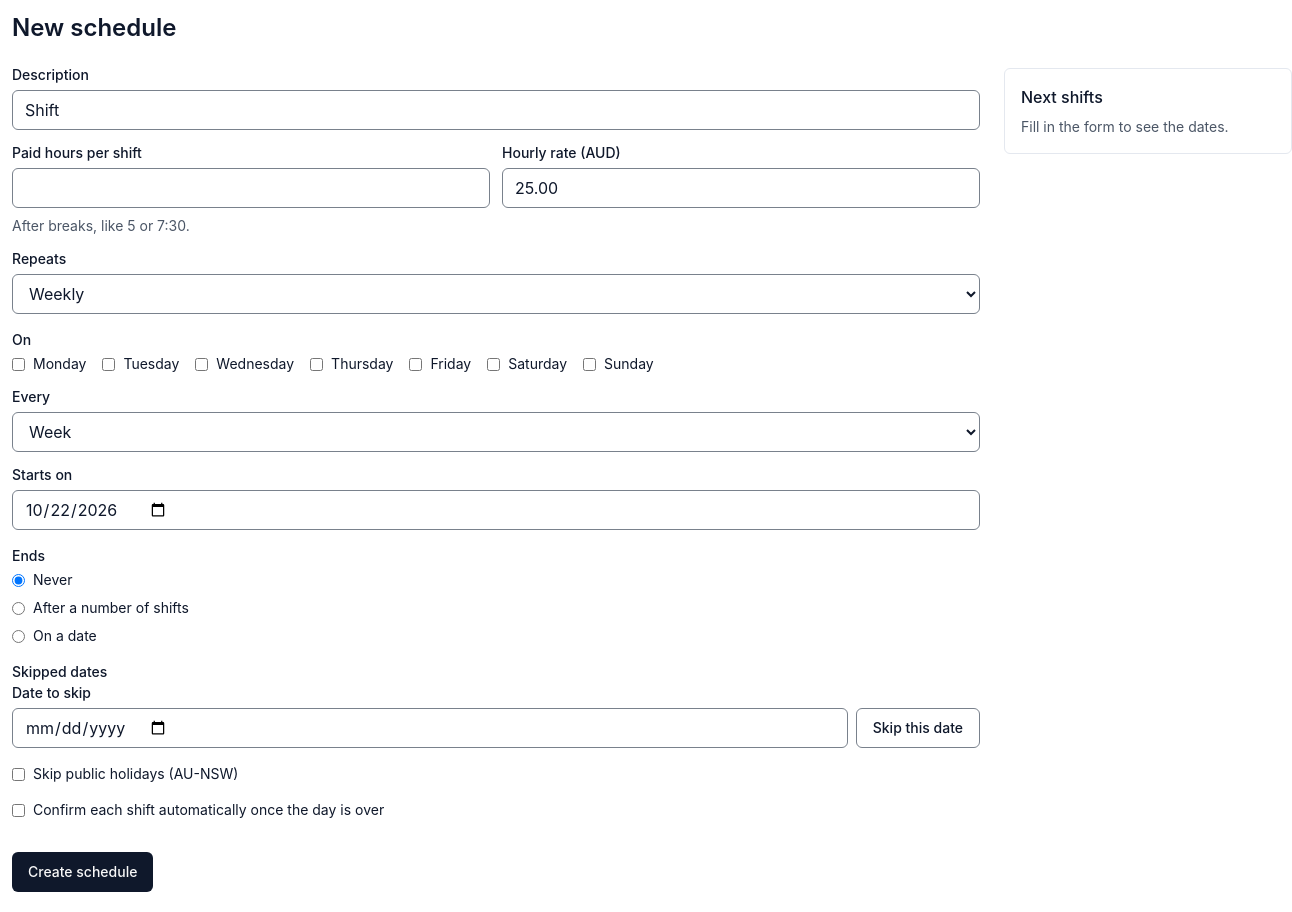
Scenario: NewSchedulePage › shows a refusal from the scheduler in the form
The image size is (1292, 912).
Click the checkbox labelled "Thursday" at (317, 364), box [310, 358, 323, 370]
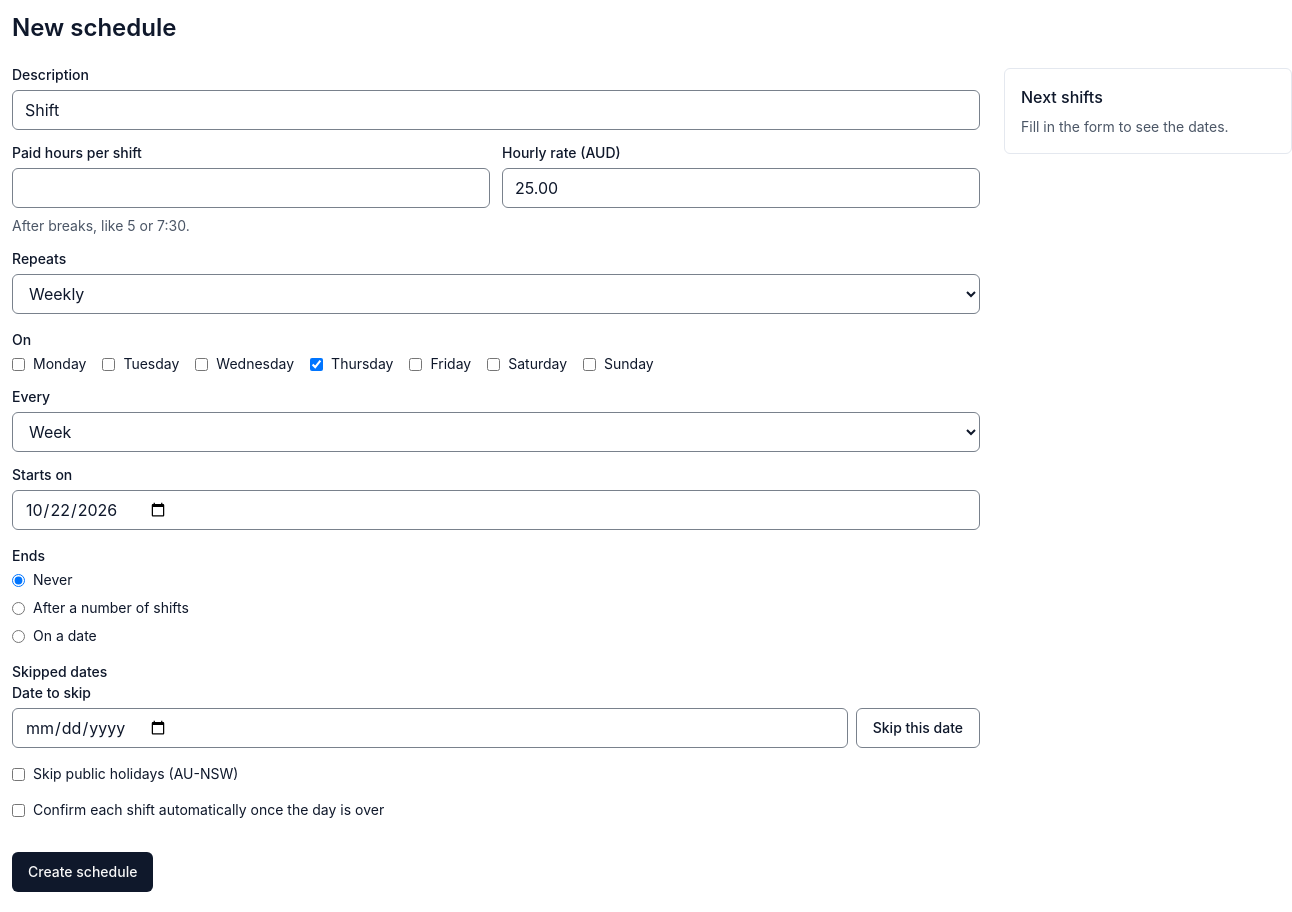
Type "5" into the field labelled "Paid hours per shift" at (251, 188), box [12, 168, 490, 208]
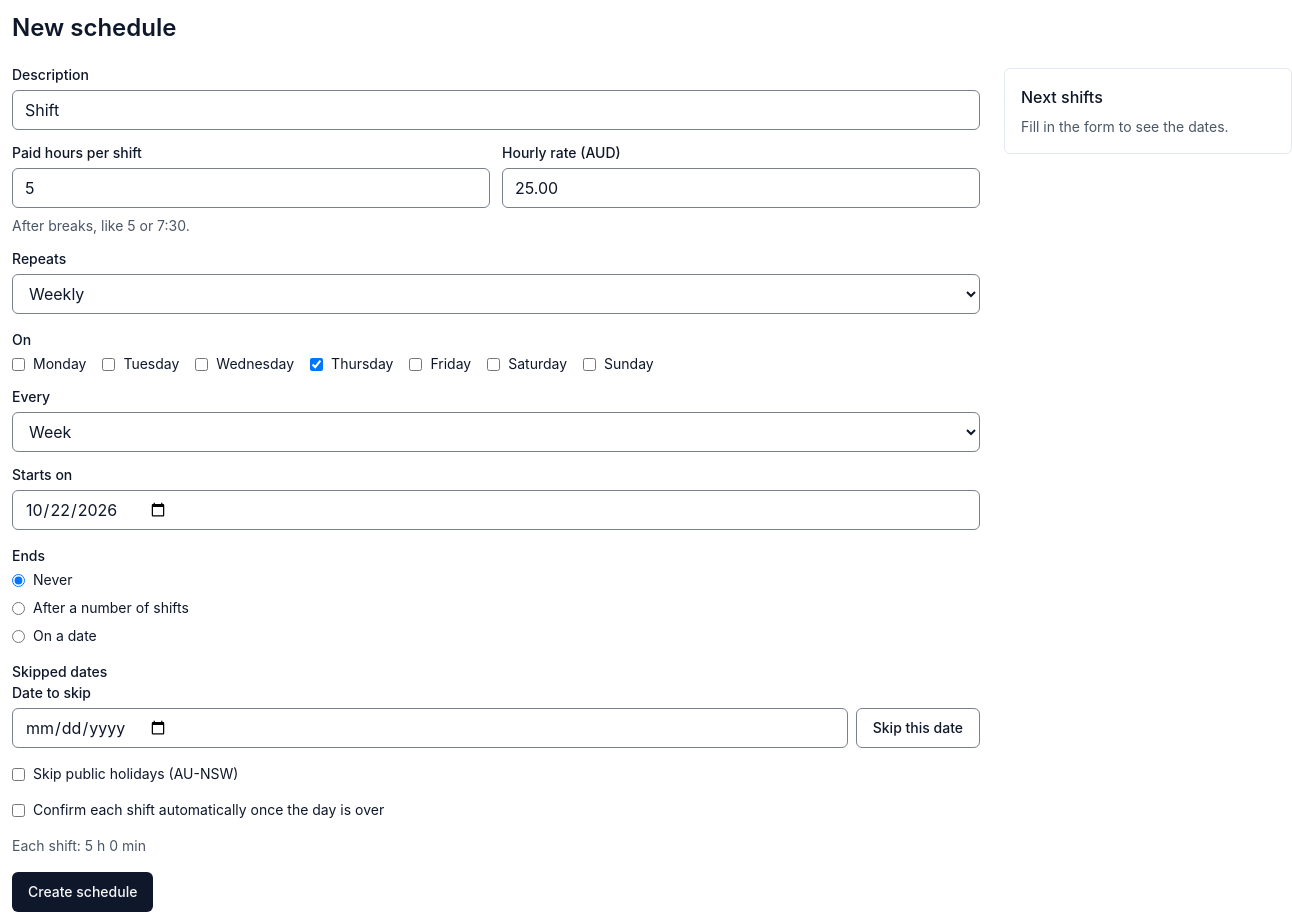
Click the button "Create schedule" at (83, 892), box [12, 872, 153, 911]
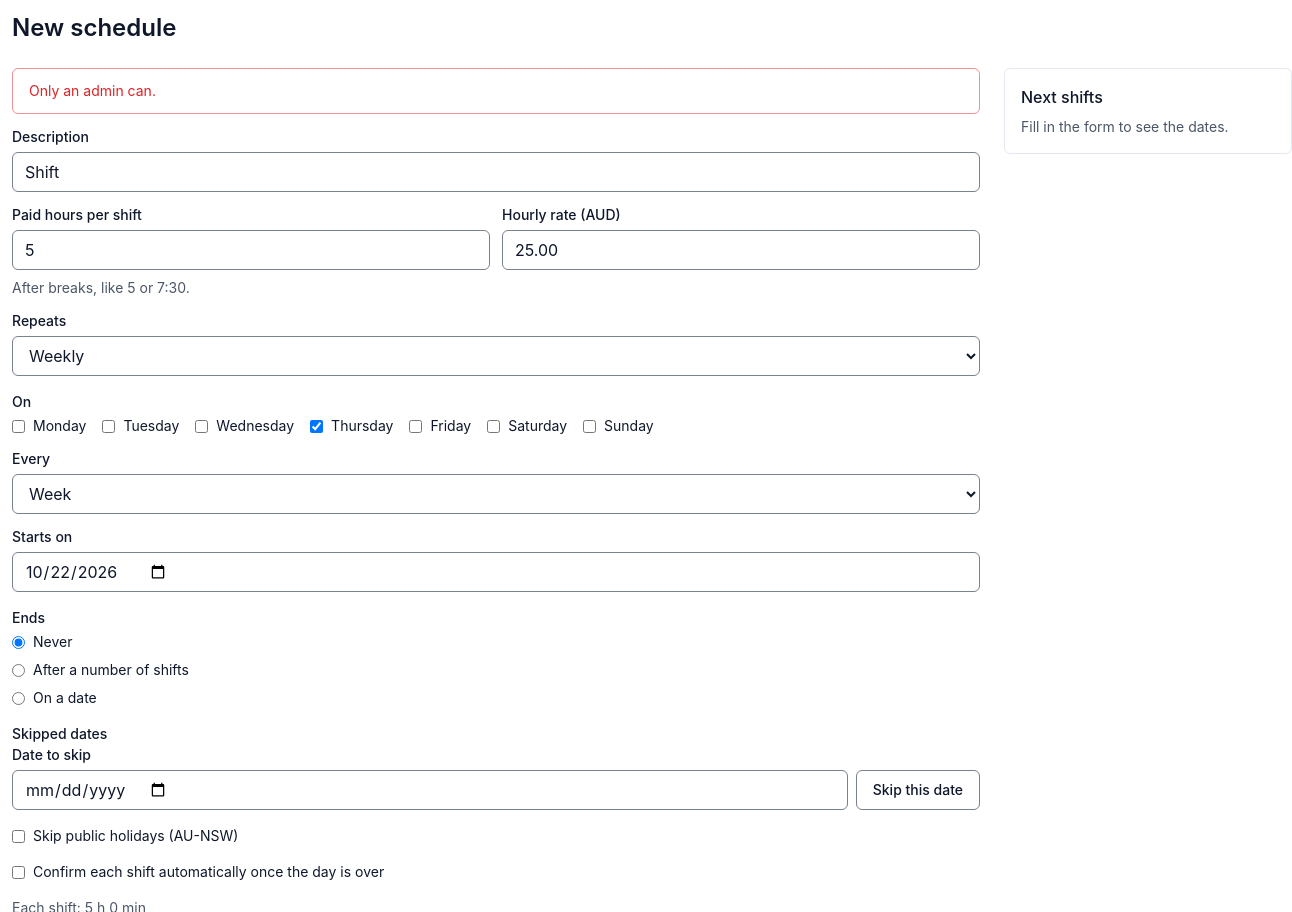
Result: the message reads "Only an admin can." at [29, 82, 156, 99]
